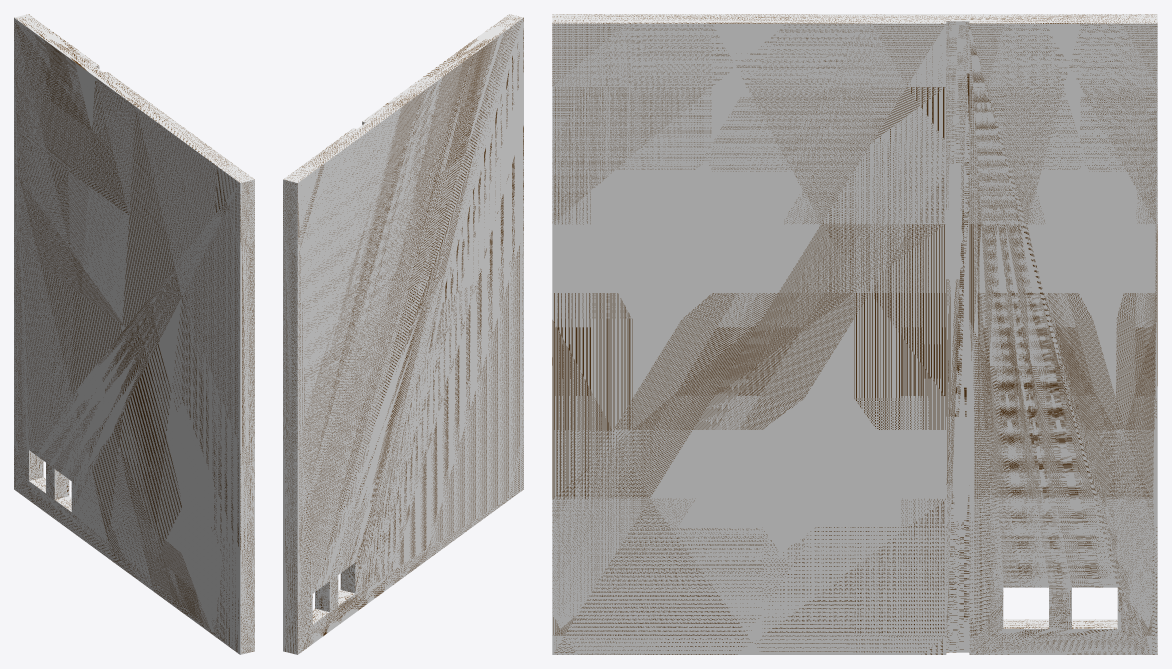
File: original-35.obj
3 views of the same model, side by side, from view 1: azimuth 30°, elevation 25°; view 2: azimuth 150°, elevation 25°; view 3: azimuth 270°, elevation 25° (orthographic). The views are drawn at different scales.
Visible parts, largest first — view 1: Component_126_1/Component_126/mesh90/mesh90-geometry#mesh90-geom; view 2: Component_126_1/Component_126/mesh90/mesh90-geometry#mesh90-geom; view 3: Component_126_1/Component_126/mesh90/mesh90-geometry#mesh90-geom.
Part boxes in pixels (<box>): Component_126_1/Component_126/mesh90/mesh90-geometry#mesh90-geom: <box>14,14,254,654</box>; Component_126_1/Component_126/mesh90/mesh90-geometry#mesh90-geom: <box>283,14,523,654</box>; Component_126_1/Component_126/mesh90/mesh90-geometry#mesh90-geom: <box>552,14,1157,654</box>.
Bounding box in the file's own units: 0.021 × 0.6406 × 0.5566.
